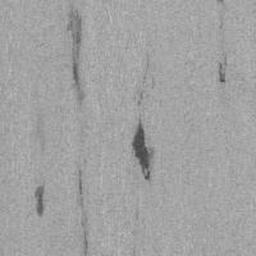Inclusion: (65, 5, 86, 102), (131, 120, 154, 182), (78, 169, 90, 256), (35, 184, 45, 216), (218, 58, 227, 83)
